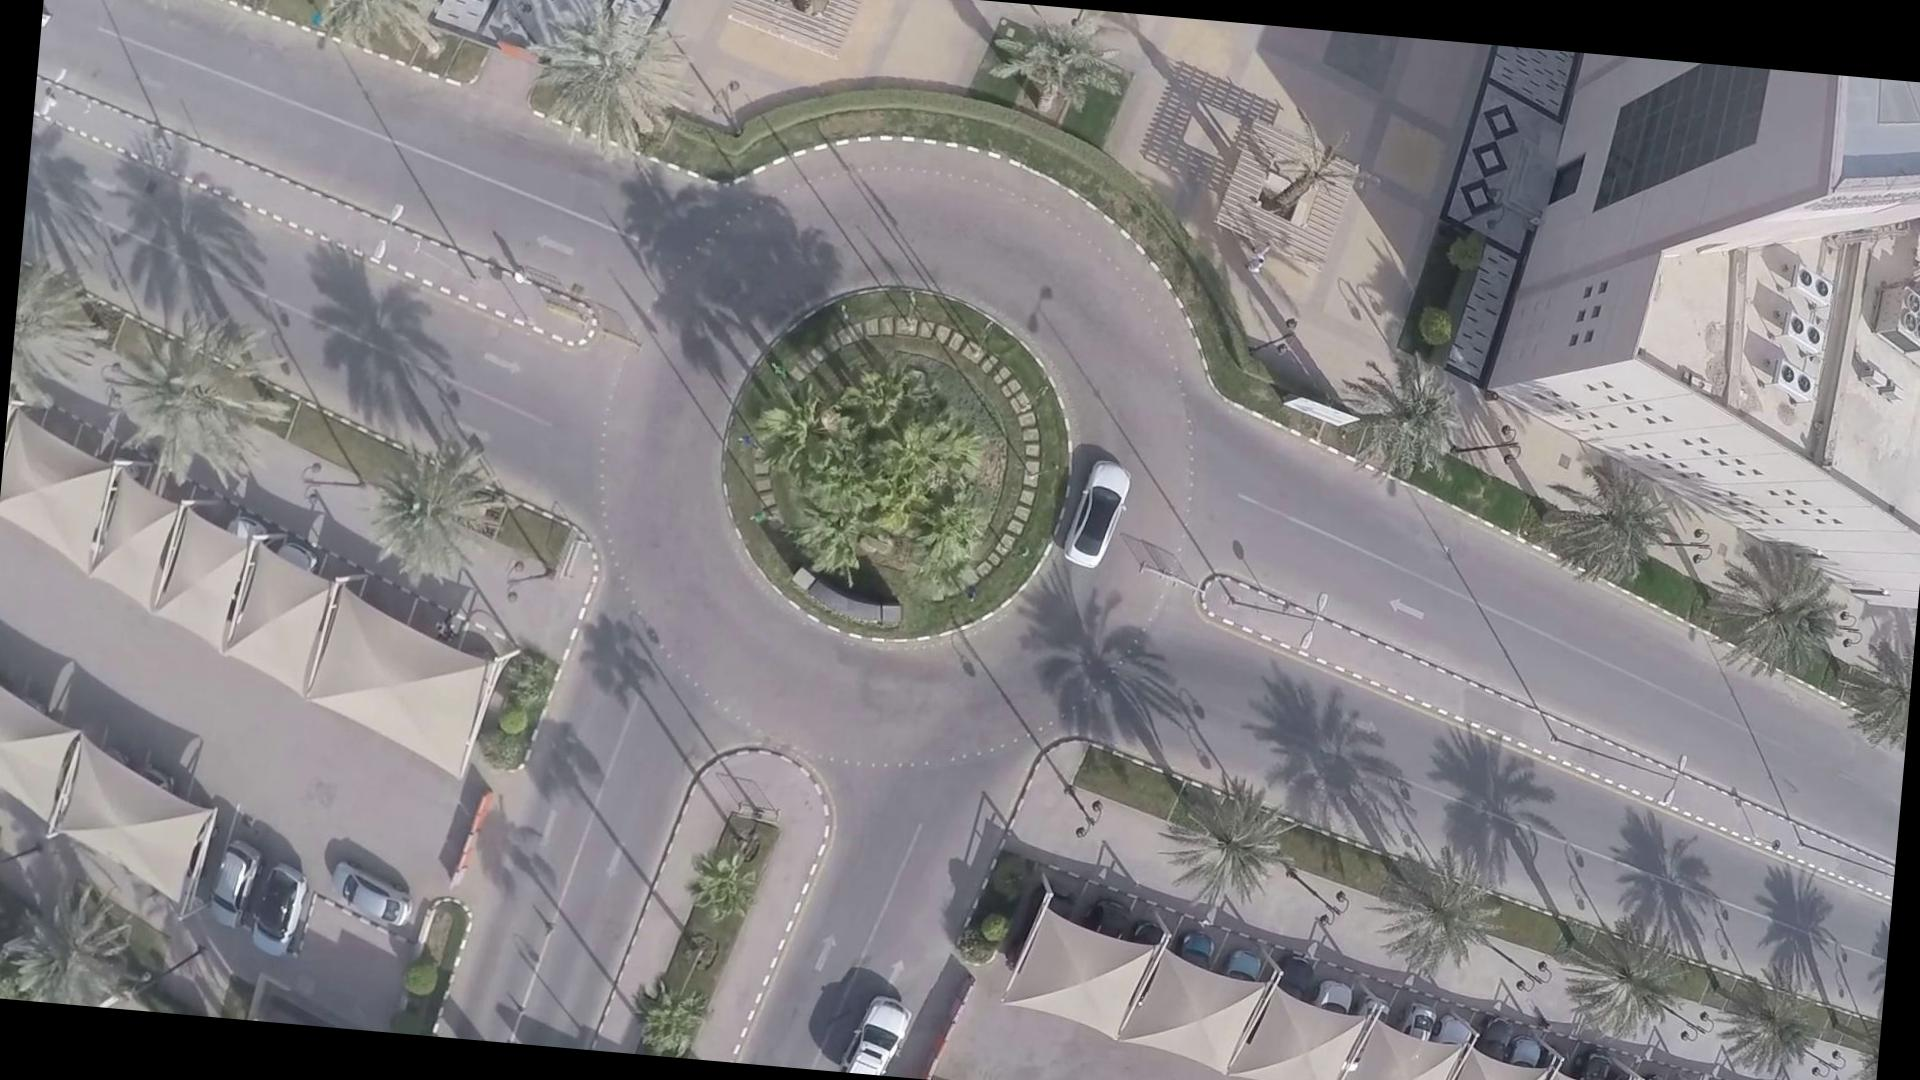vehicle: (1073, 452, 1137, 571)
